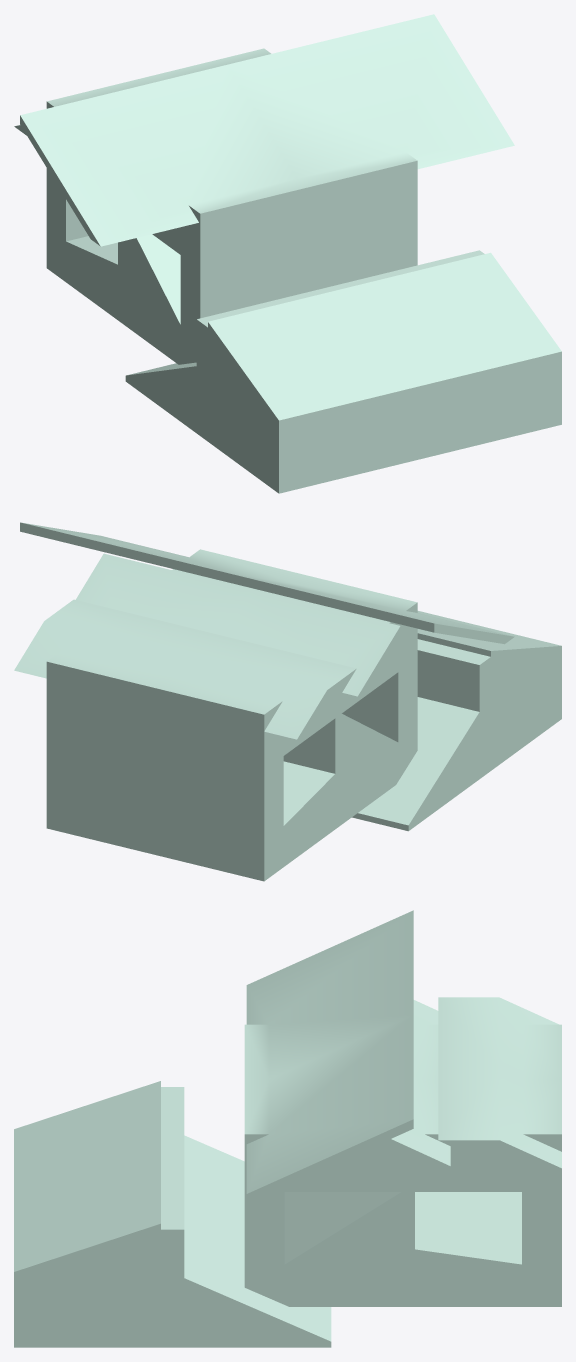
3 views of the same model, one above another, from view 1: azimuth 30°, elevation 25°; view 2: azimuth 150°, elevation 25°; view 3: azimuth 270°, elevation 25° (orthographic). The views are drawn at different scales.
Parts seen in each view (by area): view 1: Renderer Node; view 2: Renderer Node; view 3: Renderer Node.
Boxes of the visible parts, left/top/right/bottom form: Renderer Node: left=14, top=14, right=561, bottom=493; Renderer Node: left=14, top=522, right=561, bottom=881; Renderer Node: left=14, top=910, right=561, bottom=1347.
Bounding box in the file's own units: 1.88 × 1.09 × 2.08.
